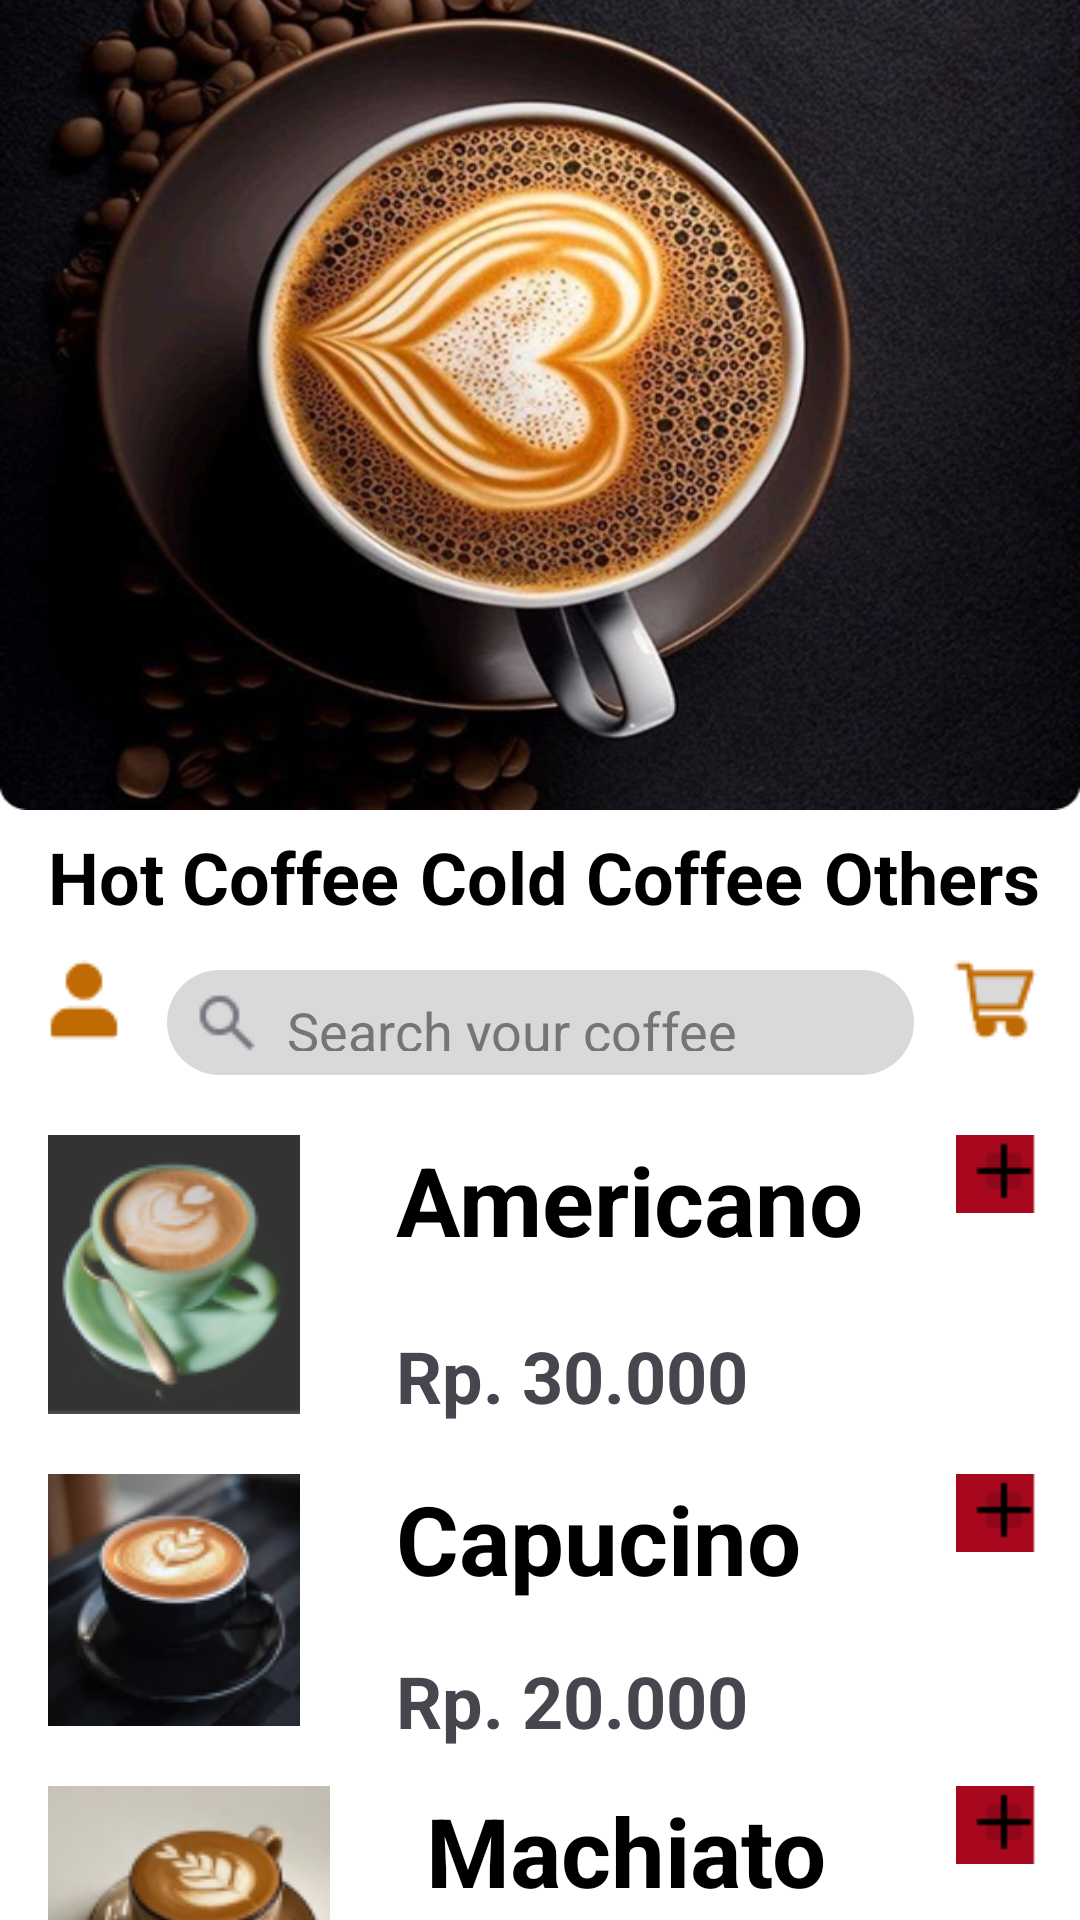

Icon bounding boxes for this 1080 × 1920 phone screenshot, format (x1, y1, x2, y2):
plus: (956, 1135, 1035, 1213), (956, 1474, 1035, 1552), (956, 1786, 1035, 1864)
profile: (50, 961, 118, 1039)
